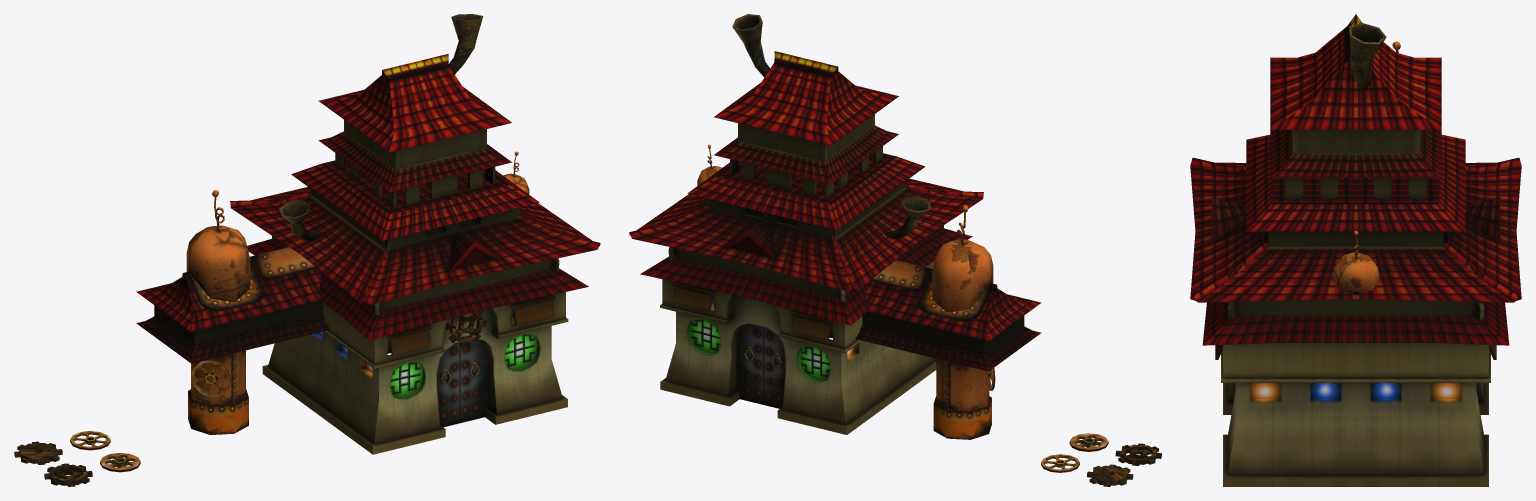
Rendered from MESH_AMB25_Kit.fbx.
3 renders of one model, left to right at view 1: azimuth 30°, elevation 25°; view 2: azimuth 150°, elevation 25°; view 3: azimuth 270°, elevation 25°, orthographic. The views are drawn at different scales.
Visible parts, largest first — view 1: BAse, middle, up, plugin_toit, dome, gros_tube, tuyau1, ecrou6, tuyau2, ecrou1, ecrou2, ecrou5 (+1 smaller); view 2: BAse, middle, up, plugin_toit, gros_tube, dome, tuyau1, tuyau2, ecrou2, ecrou1, ecrou4; view 3: BAse, middle, up, mini_dome, tuyau1.
Part boxes in pixels (box(x1,y1,x2,y2)): BAse: box(247, 239, 588, 454); middle: box(230, 160, 600, 315); up: box(318, 54, 511, 208); plugin_toit: box(136, 247, 330, 363); dome: box(186, 190, 250, 301); gros_tube: box(188, 350, 248, 434); tuyau1: box(448, 14, 483, 74); ecrou6: box(446, 310, 486, 346); tuyau2: box(279, 200, 319, 241); ecrou1: box(44, 463, 92, 486); ecrou2: box(14, 441, 62, 464); ecrou5: box(191, 360, 230, 397); BAse: box(640, 228, 972, 434); middle: box(629, 153, 983, 302); up: box(714, 51, 898, 198); plugin_toit: box(830, 260, 1041, 371); gros_tube: box(933, 359, 991, 439); dome: box(932, 205, 993, 312); tuyau1: box(732, 14, 770, 77); tuyau2: box(884, 196, 930, 238); ecrou2: box(1087, 464, 1133, 486); ecrou1: box(1115, 443, 1161, 465); ecrou4: box(1069, 433, 1108, 451); BAse: box(1202, 302, 1509, 486); middle: box(1190, 134, 1521, 320); up: box(1270, 14, 1441, 198); mini_dome: box(1332, 231, 1379, 294); tuyau1: box(1349, 23, 1386, 90).
Bounding box in the file's own units: 28.15 × 20.02 × 13.79.
3 materials, 3 textured.
